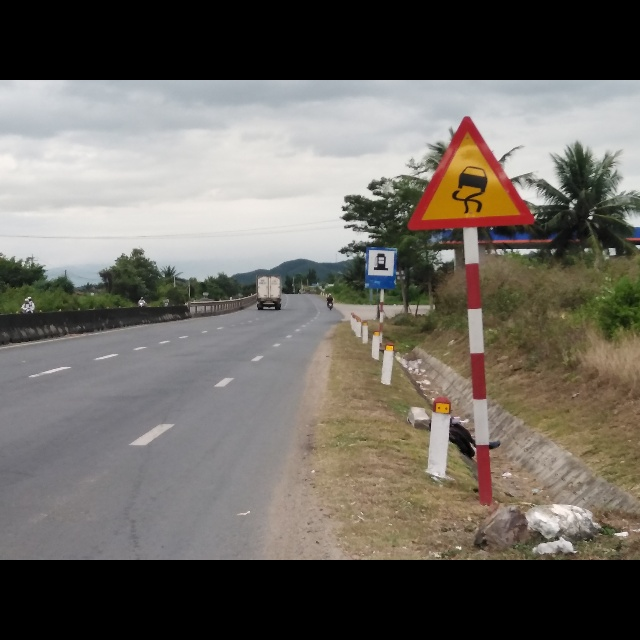Đường trơn trượt: (407, 115, 538, 228)
